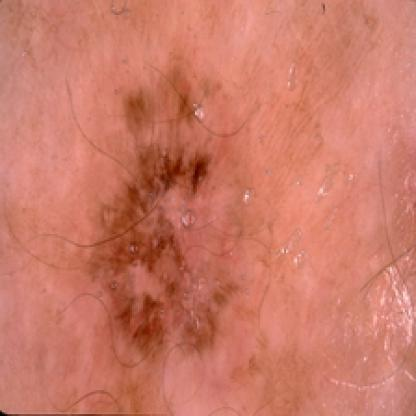malignant: (106, 85, 210, 355)
